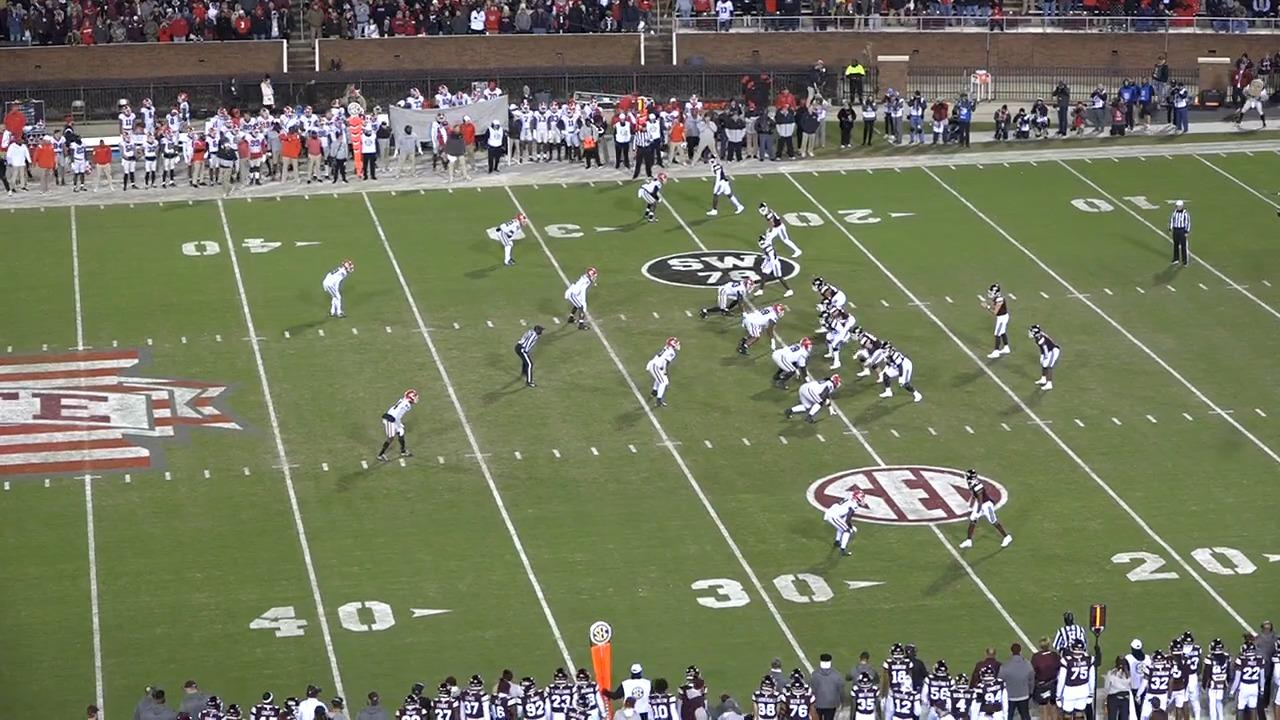player: (951, 467, 1012, 557), (371, 389, 415, 465), (786, 372, 844, 425), (879, 342, 927, 404), (746, 236, 791, 302), (821, 488, 862, 560), (757, 202, 804, 262), (733, 305, 781, 359), (978, 281, 1009, 363), (697, 280, 753, 325), (650, 336, 684, 410), (711, 157, 750, 220), (775, 339, 820, 393), (1026, 324, 1060, 393), (856, 325, 895, 383), (569, 264, 602, 330), (325, 260, 358, 322), (814, 314, 851, 368), (492, 211, 523, 266), (640, 172, 669, 225), (816, 298, 858, 333), (812, 278, 848, 308)
ref: (510, 325, 540, 392), (1166, 201, 1195, 270), (630, 121, 663, 180), (1049, 605, 1084, 659)
